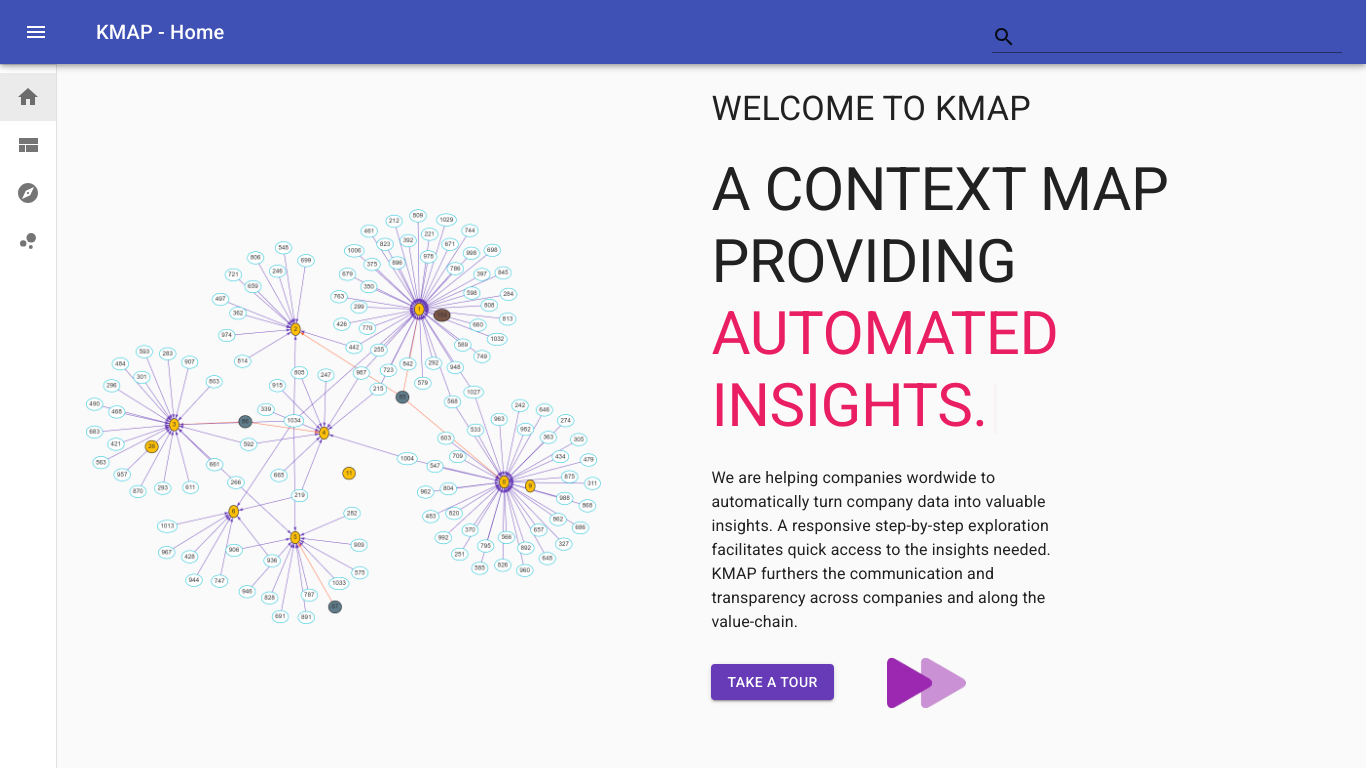
Test: Routes › has an accessible exploration route
Click the button named "open drawer" at x=36, y=32, box [12,8,60,56]
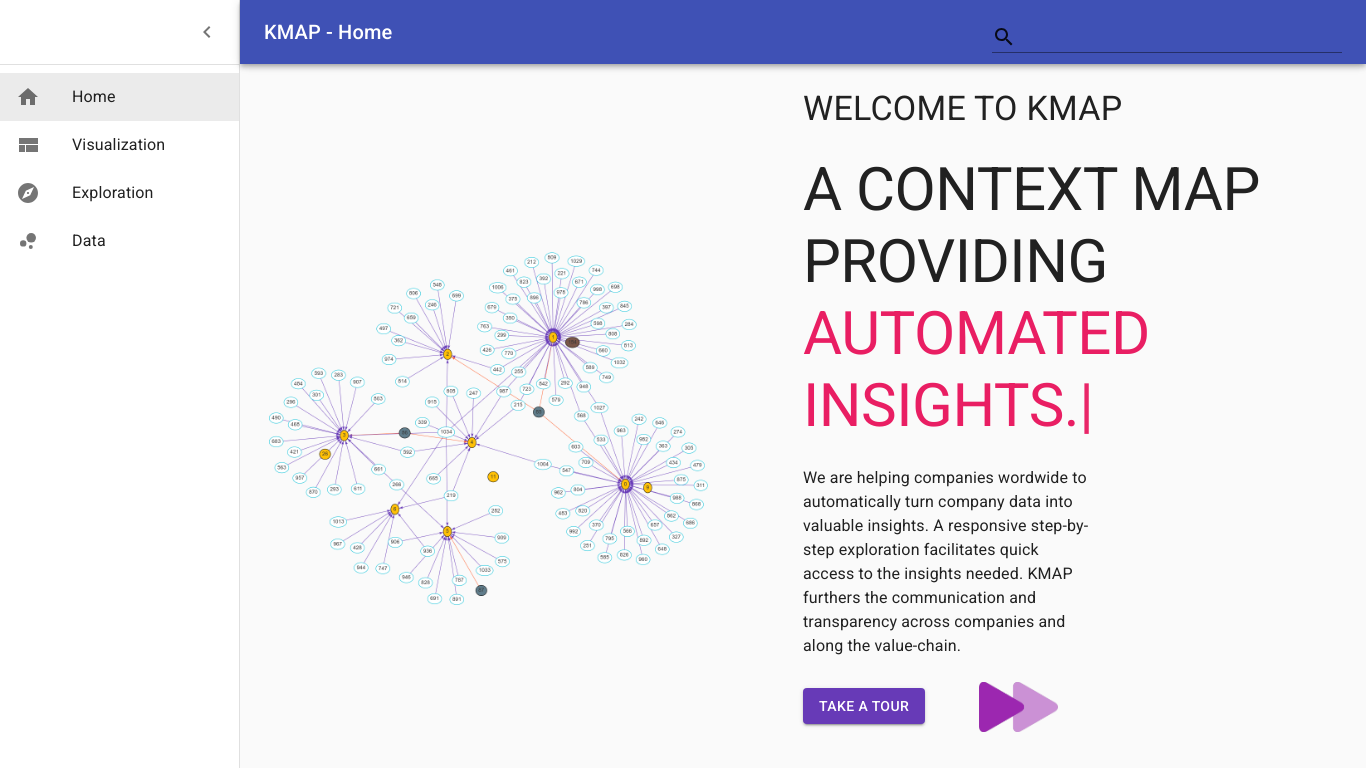
Click the button "Exploration" at x=85, y=193, box [16,181,154,205]
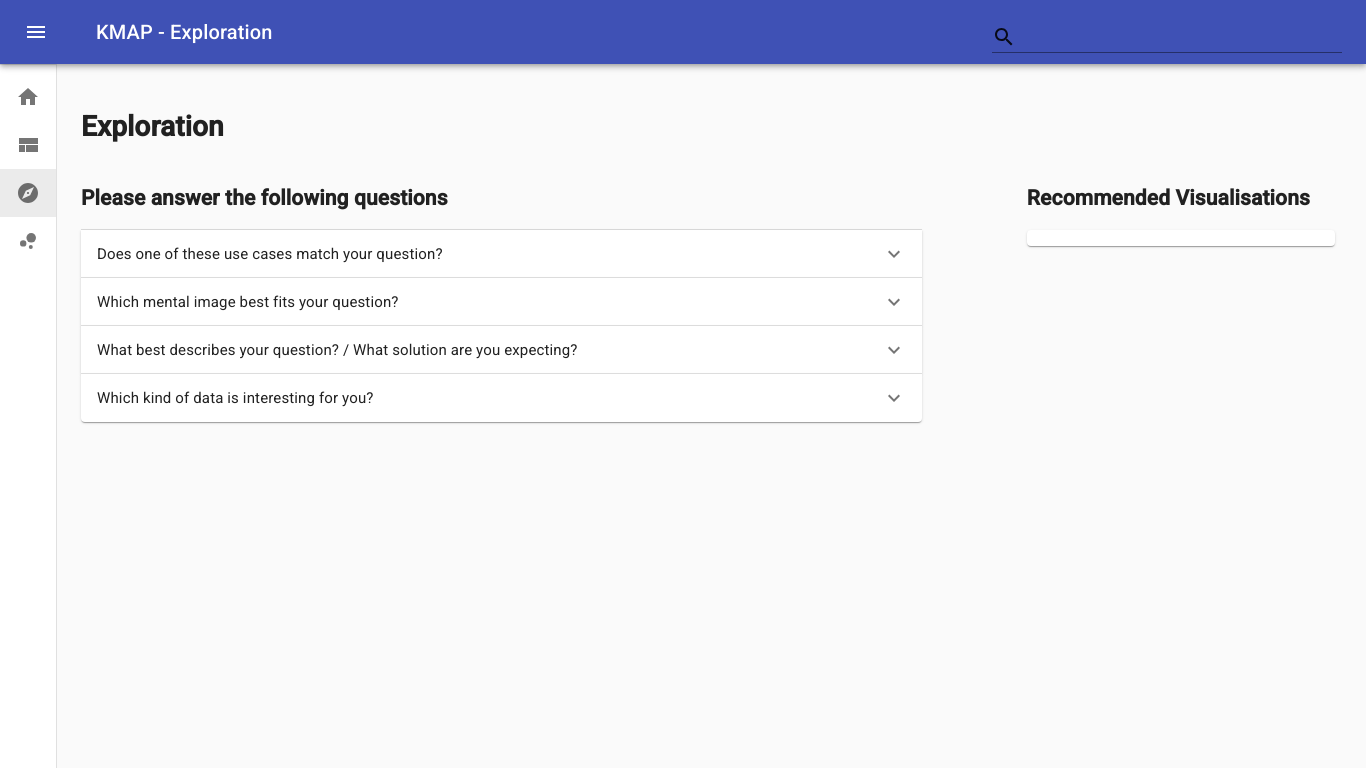
Check: the heading "KMAP - Exploration" is shown, box [96,16,273,48]
